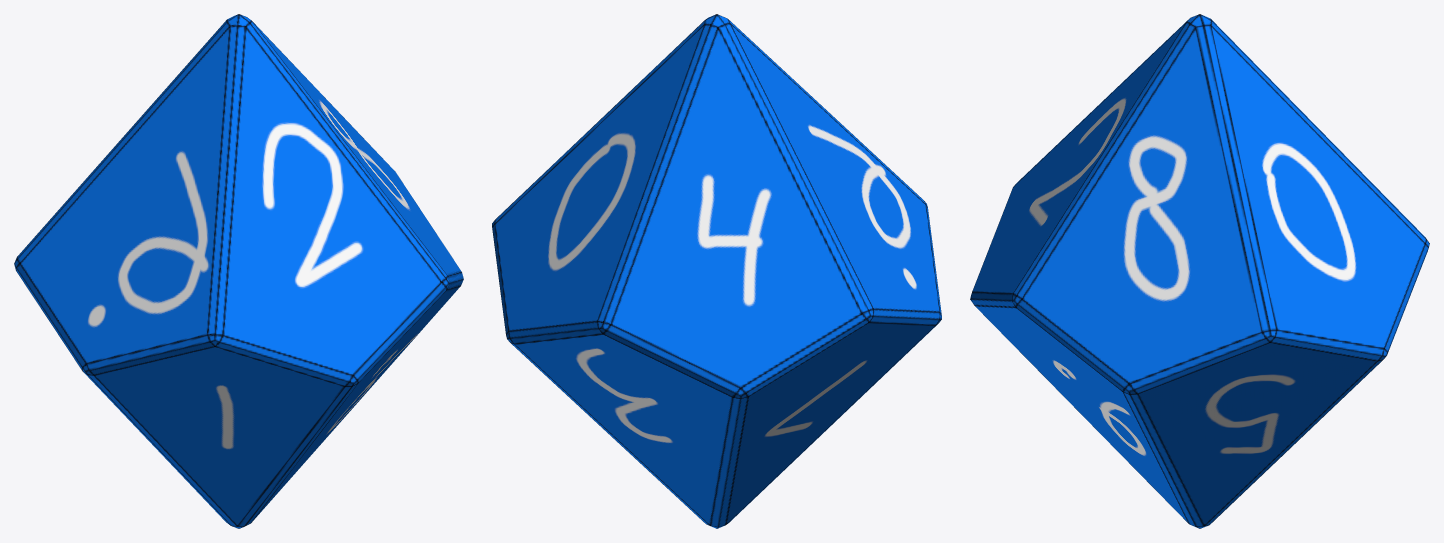
3 renders of one model, left to right at view 1: azimuth 30°, elevation 25°; view 2: azimuth 150°, elevation 25°; view 3: azimuth 270°, elevation 25°, orthographic.
Visible parts, largest first — view 1: Pentagonal Trapazohedron; view 2: Pentagonal Trapazohedron; view 3: Pentagonal Trapazohedron.
Part boxes in pixels (x1,y1,x2,y2): Pentagonal Trapazohedron: (14,14,463,528); Pentagonal Trapazohedron: (492,14,941,528); Pentagonal Trapazohedron: (970,14,1429,528).
Bounding box in the file's own units: 1.49 × 1.93 × 1.57.
Materials: 1 (1 with a texture image).
